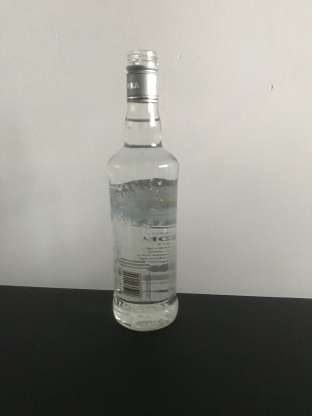nakretka: (124, 48, 160, 104)
